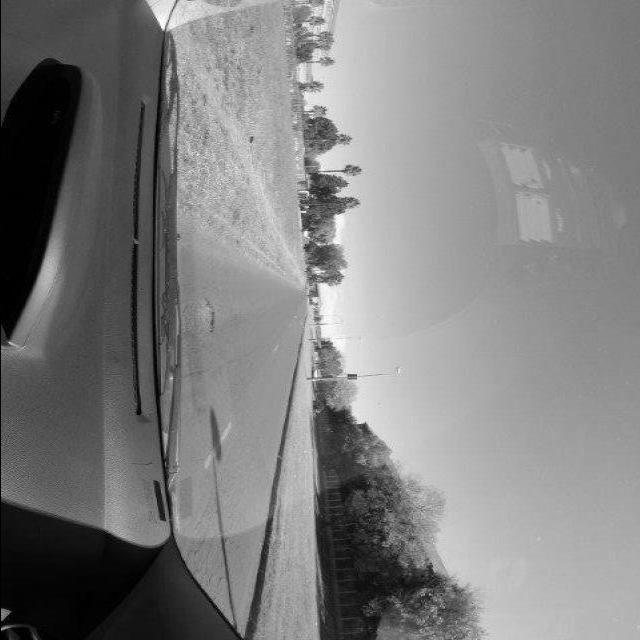jalan retak: (180, 496, 234, 558), (188, 552, 228, 568), (197, 576, 236, 587), (190, 566, 232, 574)
lubang: (202, 290, 218, 332)
